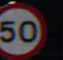Speed limit: (0, 1, 49, 58)
